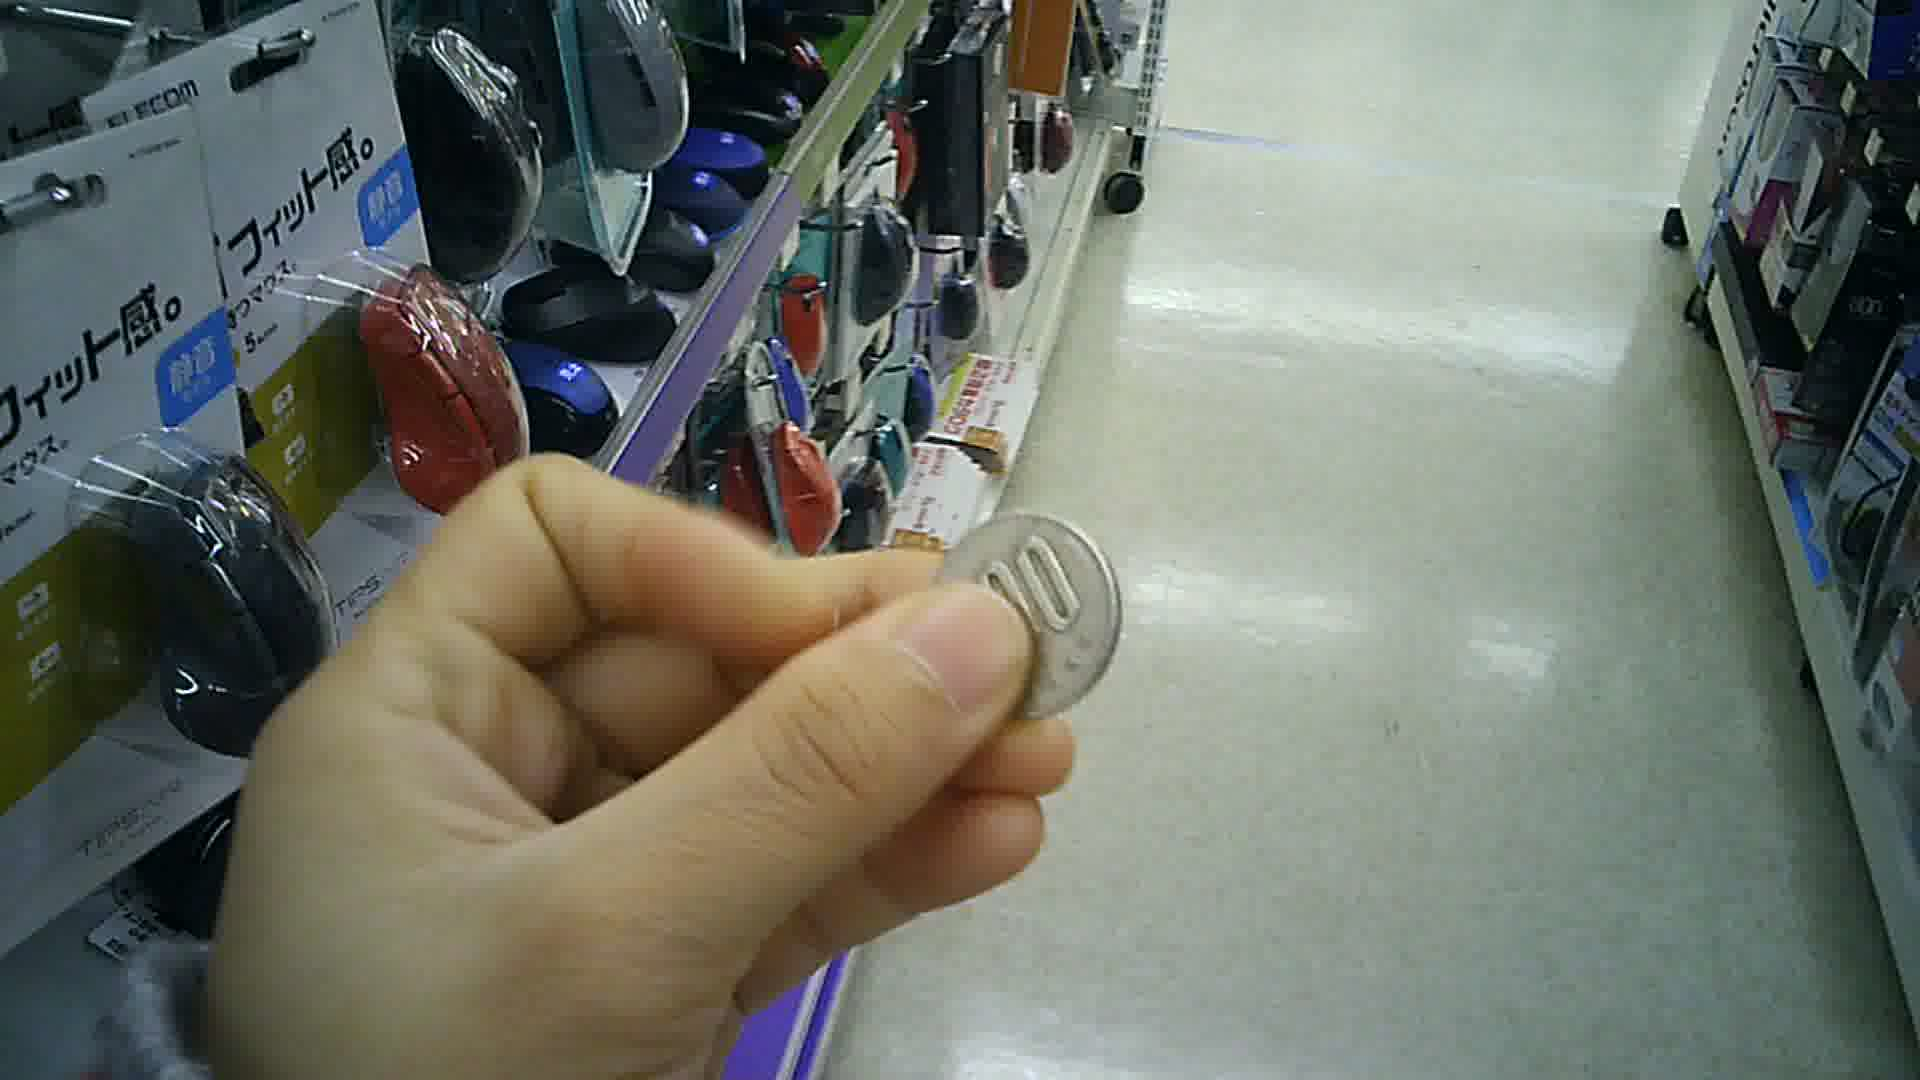100 Yen: (924, 498, 1126, 721)
